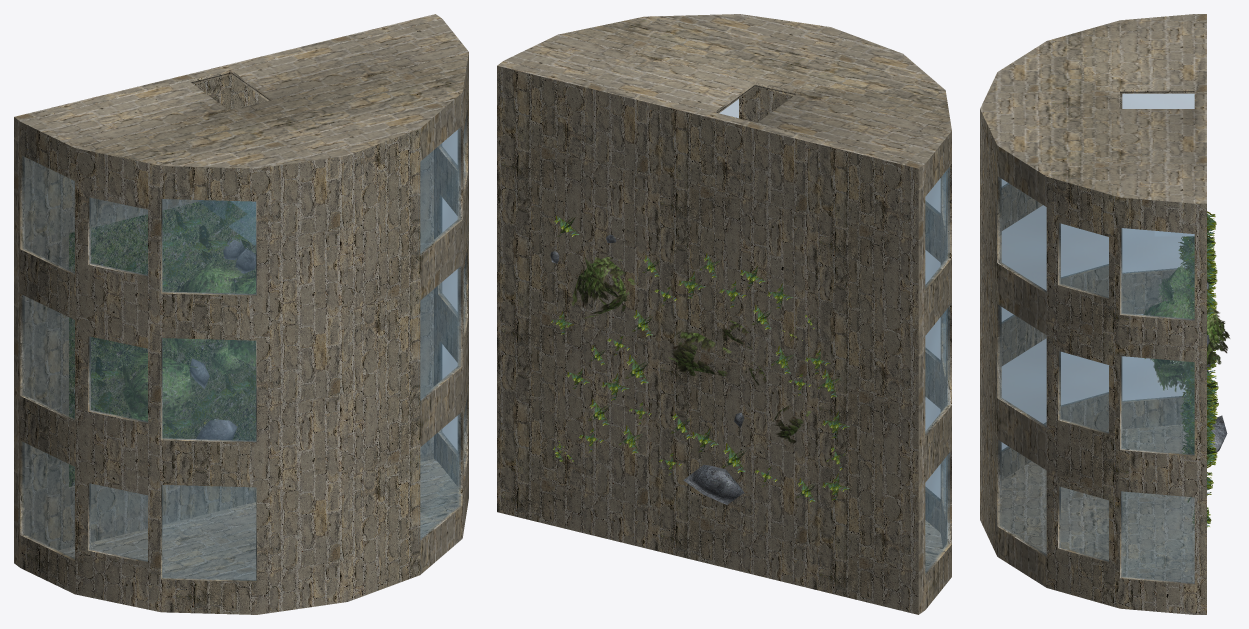
The model's file is transparency_bunker.glb.
3 renders of one model, left to right at view 1: azimuth 30°, elevation 25°; view 2: azimuth 150°, elevation 25°; view 3: azimuth 270°, elevation 25°, orthographic. The views are drawn at different scales.
Parts seen in each view (by area): view 1: Bunker, Glass.014, Glass.013, Glass.015, Glass.011, Glass.010, Glass.012, Glass.017, Glass.005, Glass.016, Glass.018, Glass.006 (+8 smaller); view 2: Bunker, Glass.011, Glass.012, Glass.010, Bush.004, Rock.005, Bush, Glass.014, Glass.013; view 3: Bunker, Glass.002, Glass.003, Glass.001, Glass.005, Glass.004, Glass.006, Glass.008, Glass.007, Glass.009, Glass.014, Glass.013 (+10 smaller).
Boxes of the visible parts, x1,y1,x2,y2 form: Bunker: (14,14,468,614); Glass.014: (162,338,256,441); Glass.013: (162,485,256,580); Glass.015: (162,199,256,294); Glass.011: (22,295,74,420); Glass.010: (22,442,74,559); Glass.012: (22,156,74,273); Glass.017: (89,337,147,422); Glass.005: (420,266,460,400); Glass.016: (89,483,147,561); Glass.018: (89,198,147,275); Glass.006: (420,413,460,539); Bunker: (497,14,951,614); Glass.011: (925,306,949,434); Glass.012: (925,167,949,287); Glass.010: (925,453,949,573); Bush.004: (571,256,635,318); Rock.005: (683,464,743,504); Bush: (668,329,731,376); Glass.014: (925,250,940,361); Glass.013: (925,397,940,500); Bunker: (980,14,1206,614); Glass.002: (1121,356,1194,455); Glass.003: (1121,491,1194,583); Glass.001: (1121,228,1194,320); Glass.005: (998,305,1046,427); Glass.004: (998,177,1046,292); Glass.006: (998,441,1046,555); Glass.008: (1059,351,1108,433); Glass.007: (1059,223,1108,298); Glass.009: (1059,487,1108,561); Glass.014: (1002,205,1046,322); Glass.013: (1002,339,1046,450).
Bounding box in the file's own units: 9.89 × 10 × 5.62.
Materials: 6 (6 with a texture image).
